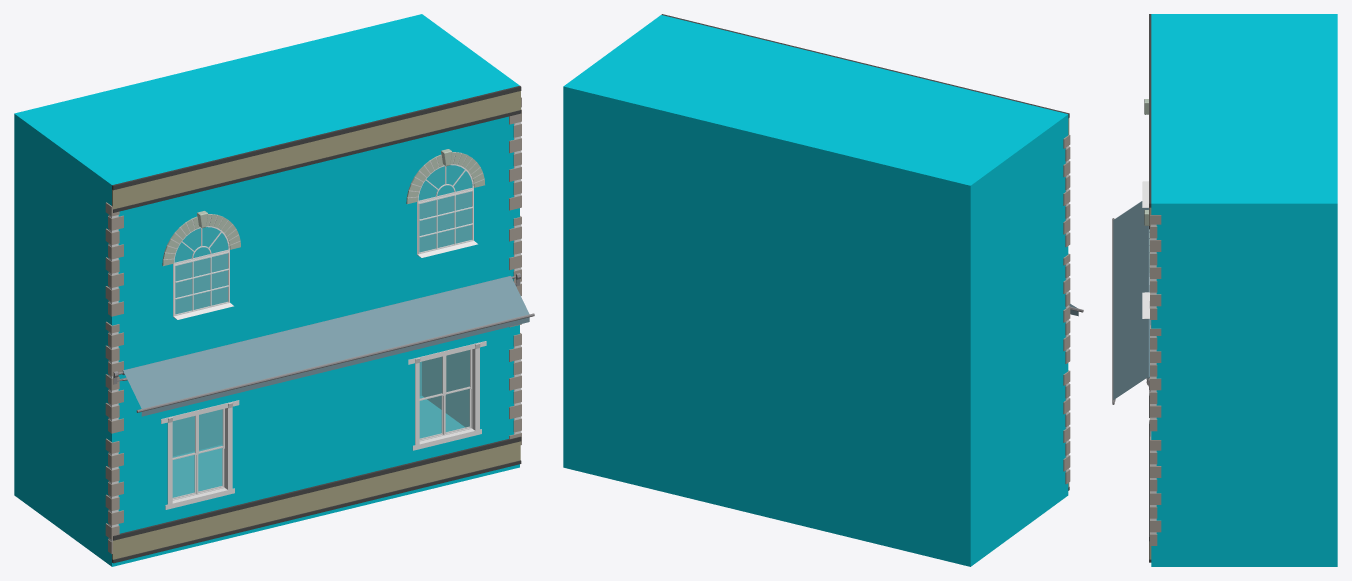
File: last_build_4.fbx
The picture shows the model from 3 angles, left to right: view 1: azimuth 30°, elevation 25°; view 2: azimuth 150°, elevation 25°; view 3: azimuth 270°, elevation 25°; orthographic projection. The views are drawn at different scales.
Parts seen in each view (by area): view 1: building_4; view 2: building_4; view 3: building_4.
Part boxes in pixels (x1,y1,x2,y2): building_4: (14, 14, 534, 566); building_4: (563, 14, 1083, 566); building_4: (1112, 14, 1337, 566).
Size of the model in its own units: 90 by 80 by 45.
